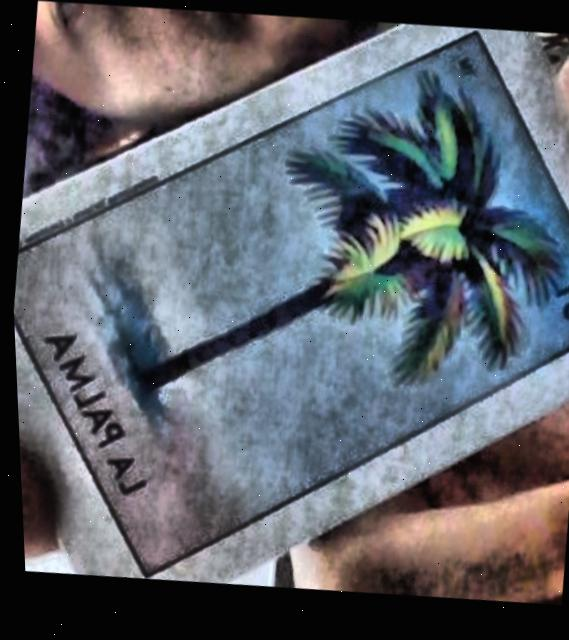La Palma: (11, 40, 569, 575)
